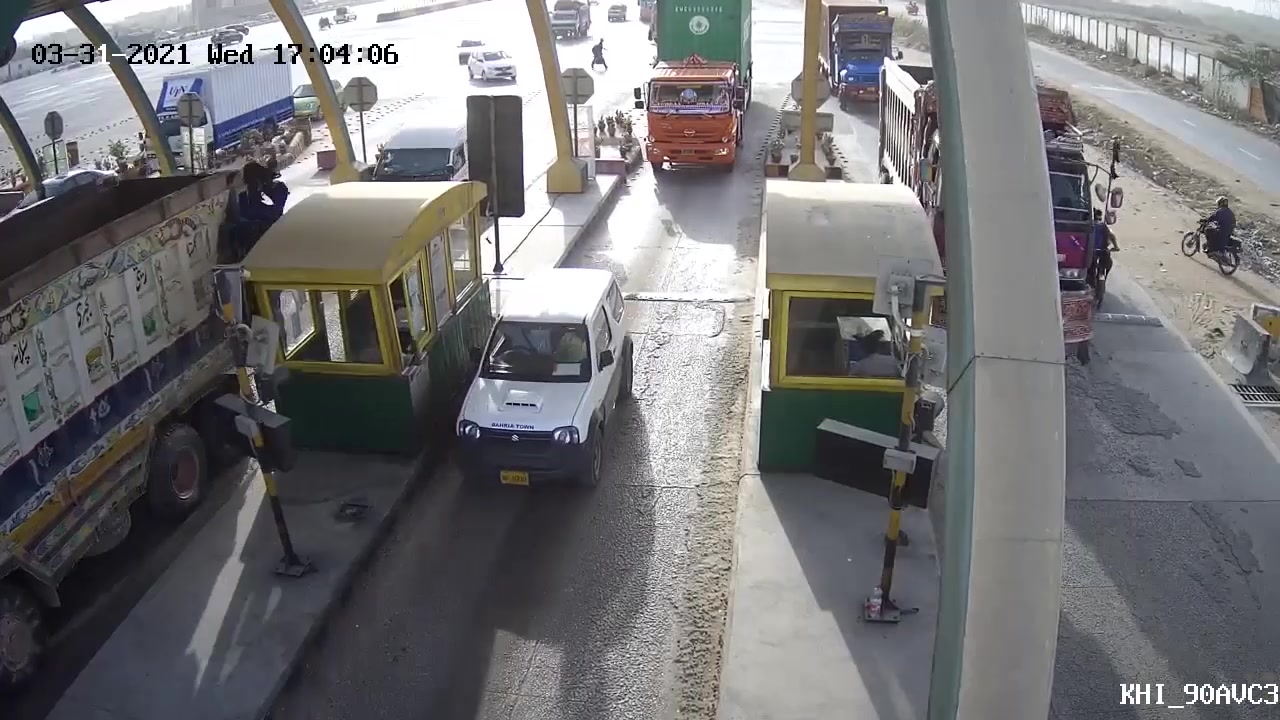F1: (445, 264, 645, 499)
F6: (633, 1, 760, 187)
